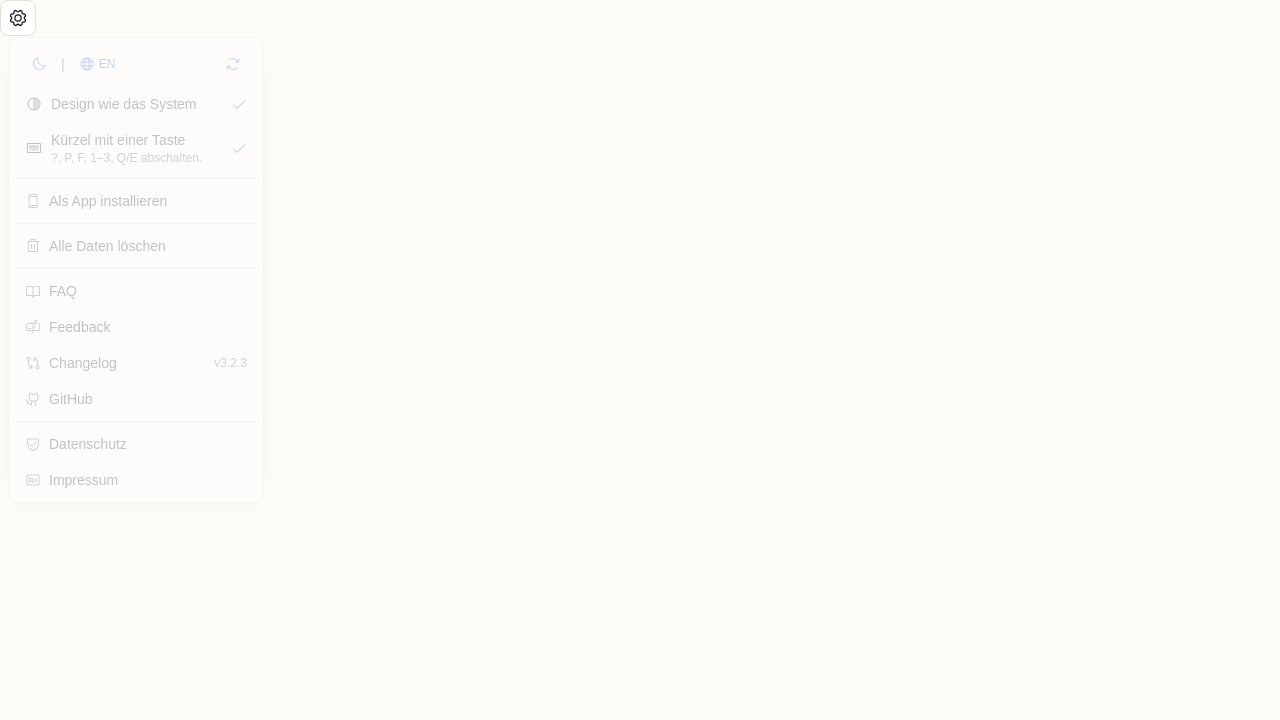
Test: AppSettingsMenu › opens the legal pages with the way back into the app
What coordinates should you click on to do the following:
click the button named "Einstellungen"
I would click on:
 (18, 18)
Its box is [0,0,36,36].
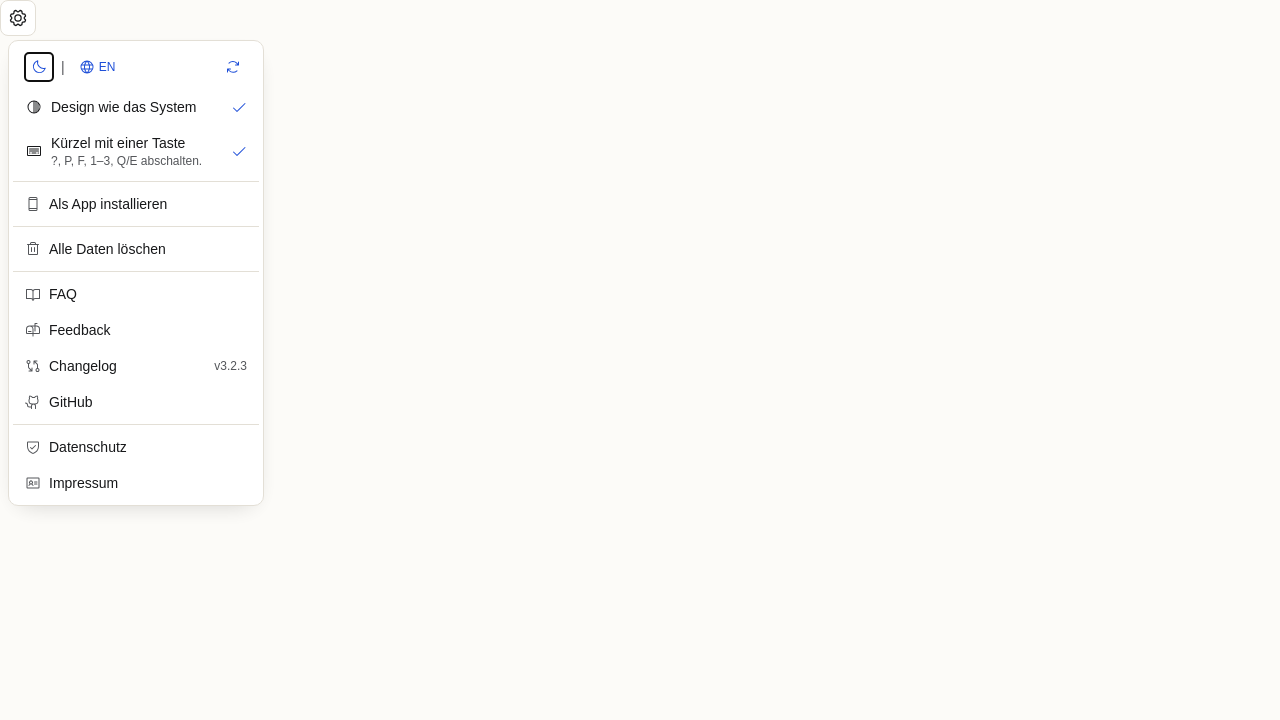
Expected: the button "Alle Daten löschen" is shown, [13,231,259,267]
What coordinates should you click on to do the following:
click the link "Impressum"
I would click on:
 (72, 483)
Its box is [25,475,118,491].
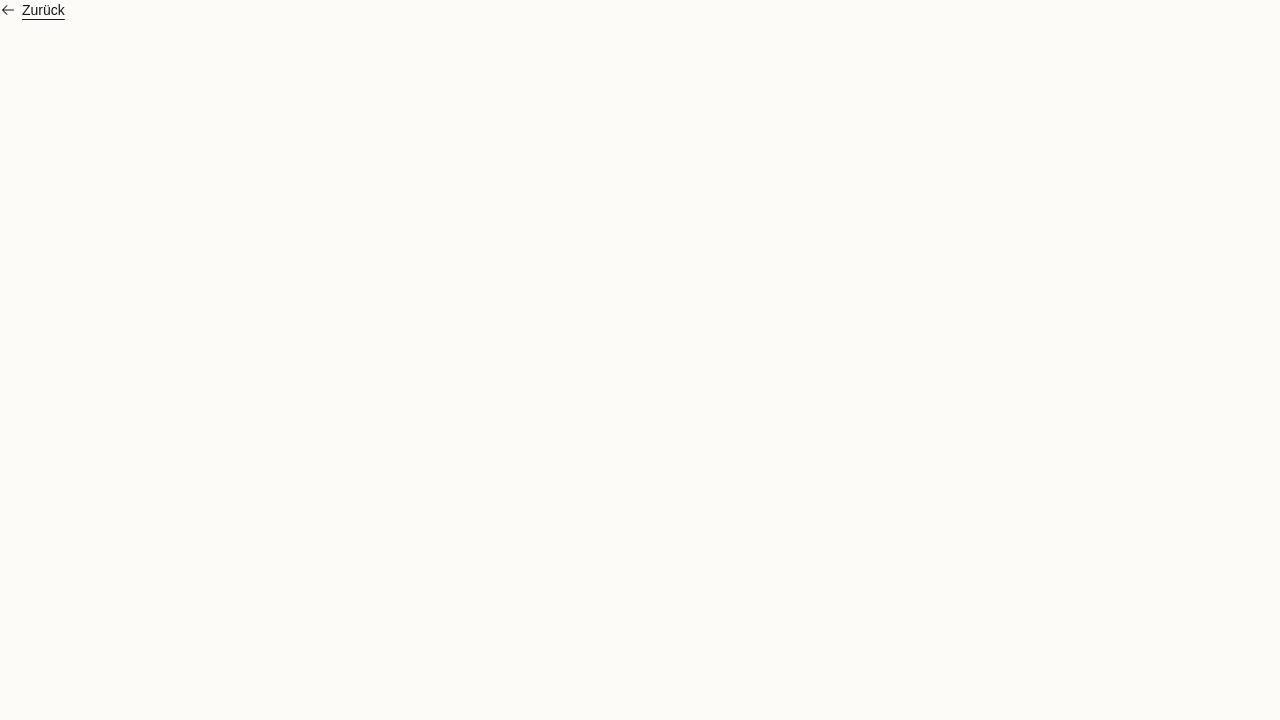
Expected: the button "Zurück" is shown, [0,0,65,20]
